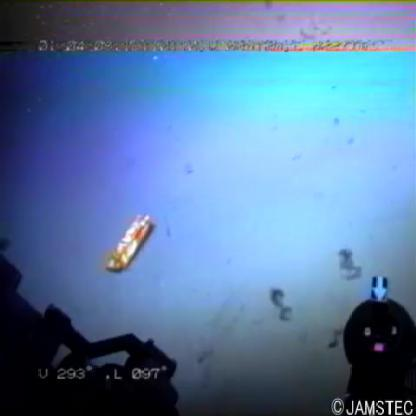Rov: (4, 252, 182, 415), (337, 271, 415, 415)
Rác: (102, 210, 158, 280)
